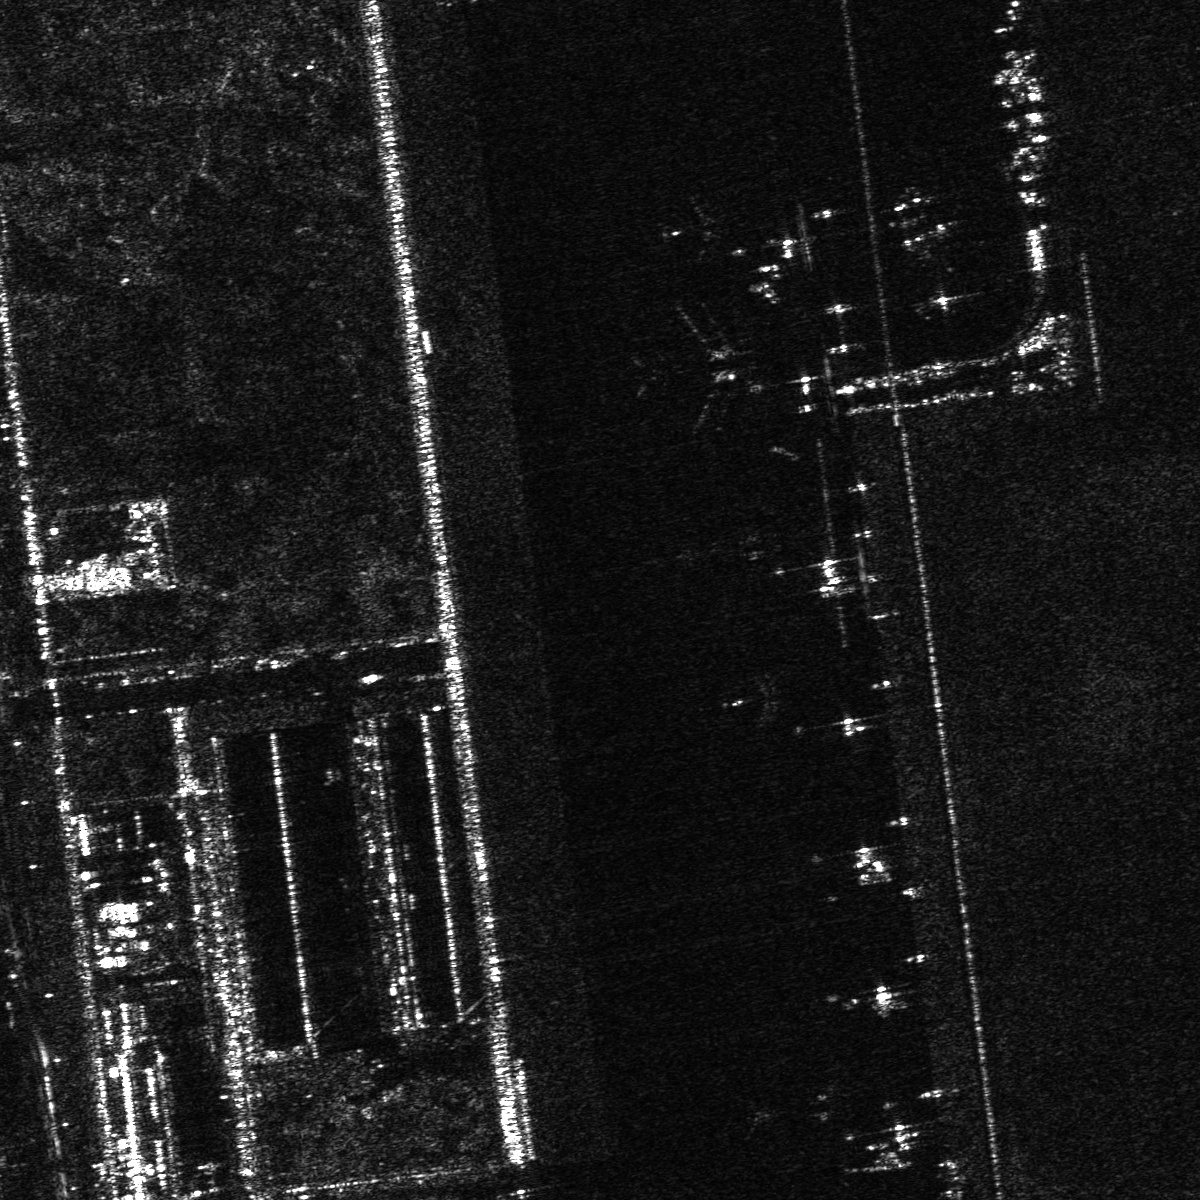Boeing787: (627, 296, 757, 433), (653, 189, 730, 262), (719, 663, 795, 731)
